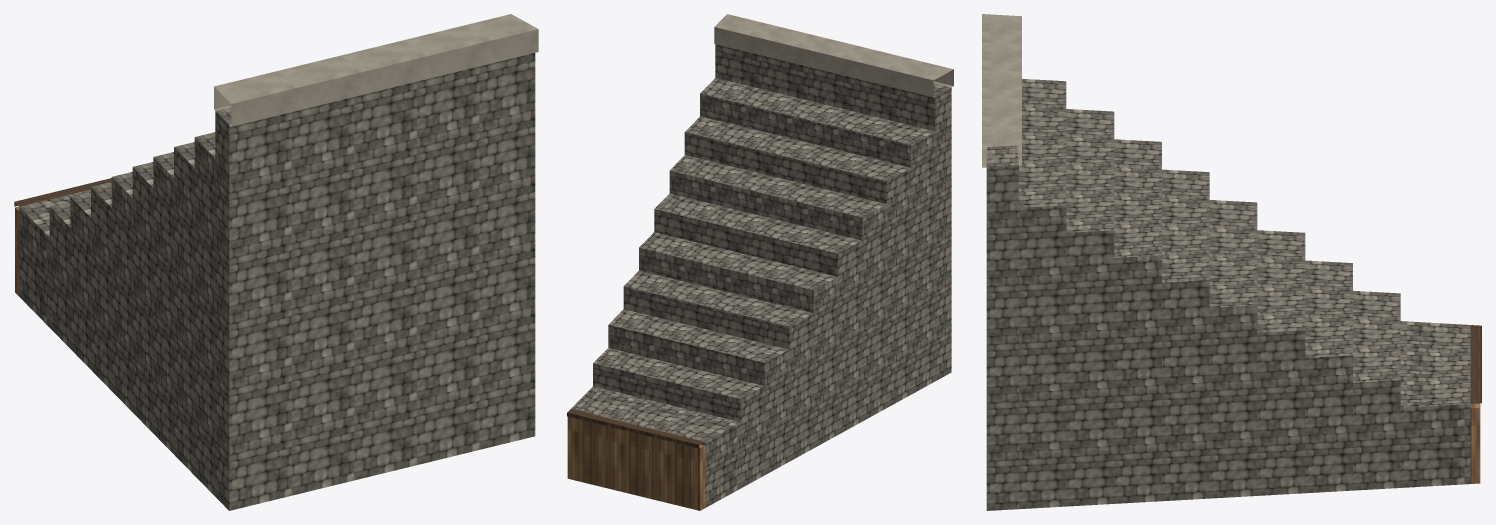
Rendered from Arena_Stands_1_LOD2.gltf.
The picture shows the model from 3 angles, left to right: view 1: azimuth 30°, elevation 25°; view 2: azimuth 150°, elevation 25°; view 3: azimuth 270°, elevation 25°; orthographic projection. The views are drawn at different scales.
Parts seen in each view (by area): view 1: Arena_Stands_1_LOD2; view 2: Arena_Stands_1_LOD2; view 3: Arena_Stands_1_LOD2.
Boxes of the visible parts, left/top/right/bottom form: Arena_Stands_1_LOD2: left=14, top=14, right=538, bottom=510; Arena_Stands_1_LOD2: left=567, top=14, right=953, bottom=510; Arena_Stands_1_LOD2: left=982, top=14, right=1481, bottom=510.
Bounding box in the file's own units: 9.83 × 12.5 × 15.57.
Materials: 4 (4 with a texture image).
